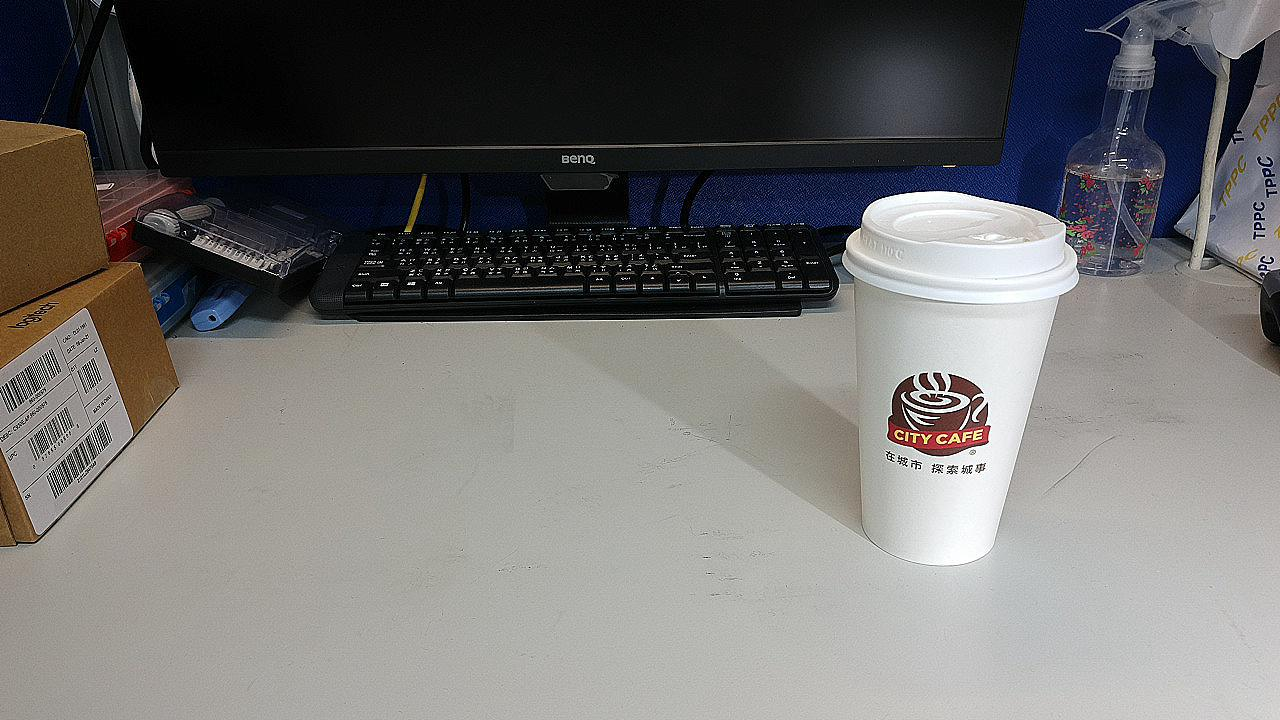columnar: (809, 269, 1002, 492)
grip: (966, 341, 1052, 482)
